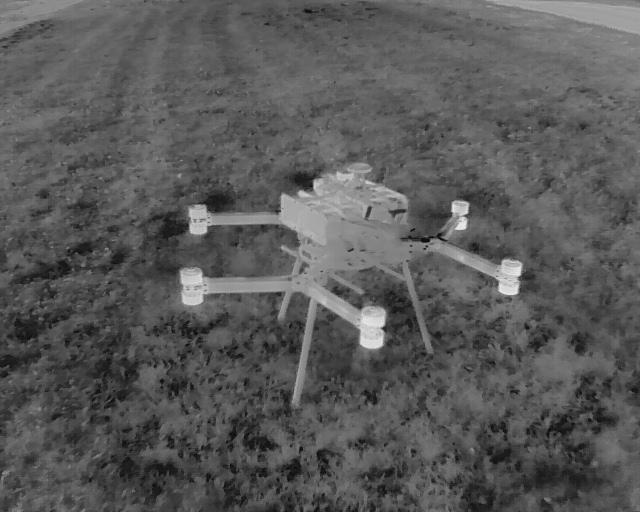drone: (104, 125, 582, 424)
